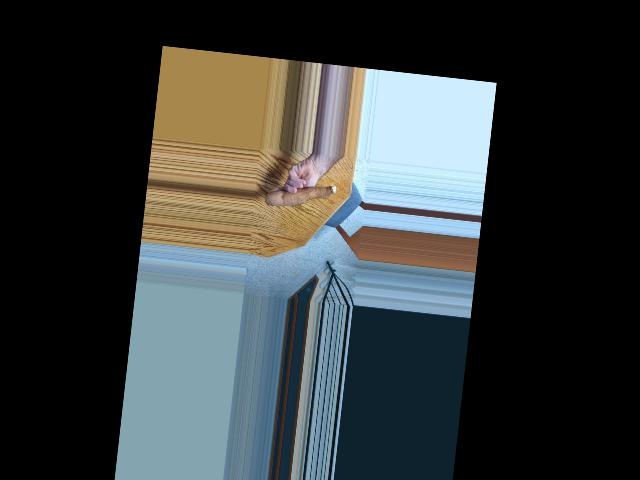sweet_potato: (263, 176, 337, 213)
